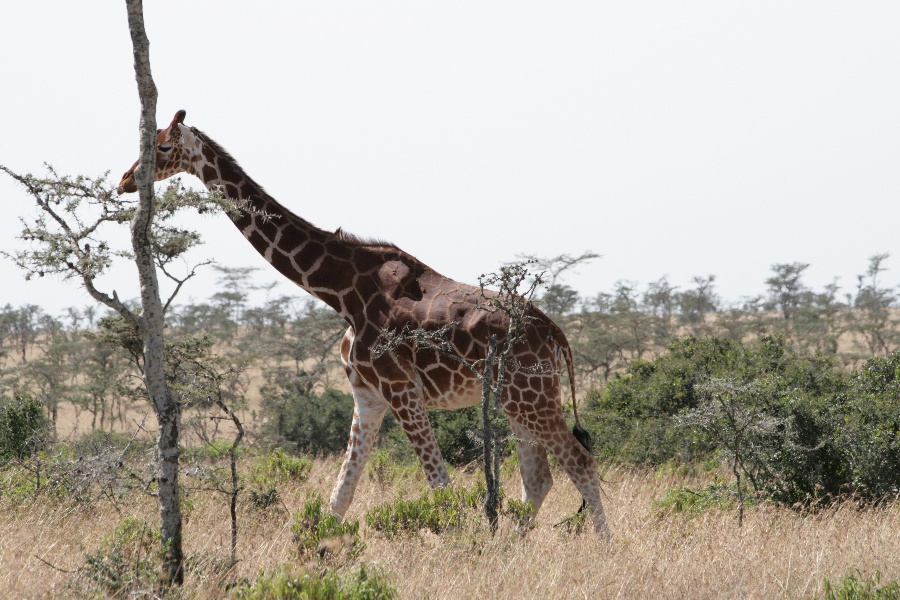giraffe: (110, 102, 621, 551)
